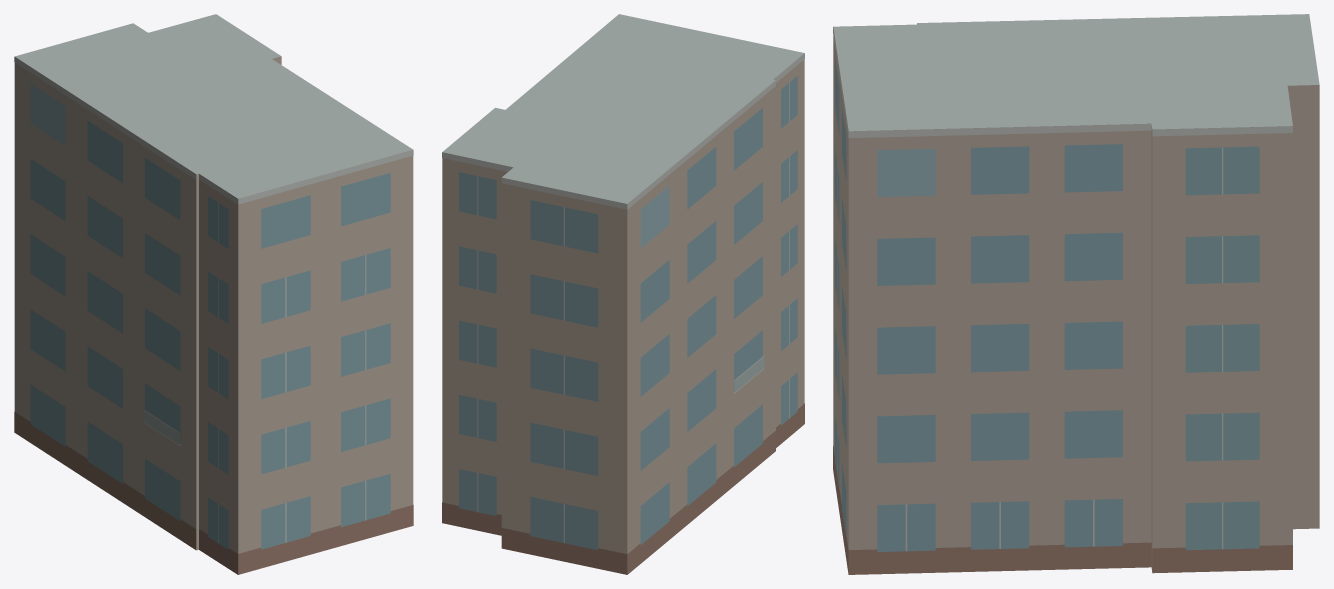
The model's file is survey-upis-32739589.glb.
3 views of the same model, side by side, from view 1: azimuth 30°, elevation 25°; view 2: azimuth 150°, elevation 25°; view 3: azimuth 270°, elevation 25° (orthographic). The views are drawn at different scales.
Visible parts, largest first — view 1: survey-upis-32739589.tmp; view 2: survey-upis-32739589.tmp; view 3: survey-upis-32739589.tmp.
Boxes of the visible parts, x1,y1,x2,y2 form: survey-upis-32739589.tmp: [14, 14, 413, 574]; survey-upis-32739589.tmp: [442, 14, 804, 574]; survey-upis-32739589.tmp: [833, 14, 1319, 574].
Bounding box in the file's own units: 8.91 × 15.7 × 15.61.
